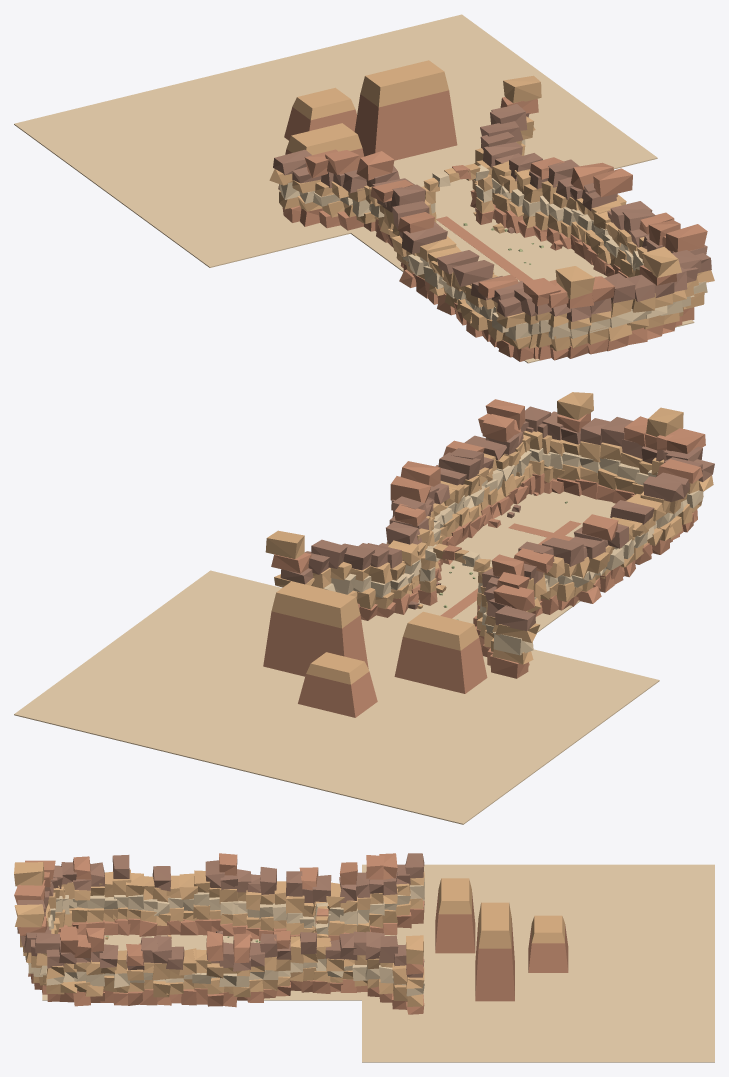
Rendered from lobby_canyon.glb.
3 renders of one model, top to bottom at view 1: azimuth 30°, elevation 25°; view 2: azimuth 150°, elevation 25°; view 3: azimuth 270°, elevation 25°, orthographic. The views are drawn at different scales.
Parts seen in each view (by area): view 1: LobbyCanyon; view 2: LobbyCanyon; view 3: LobbyCanyon.
Boxes of the visible parts, x1,y1,x2,y2 form: LobbyCanyon: (14, 14, 714, 363); LobbyCanyon: (14, 392, 714, 824); LobbyCanyon: (14, 853, 714, 1062).
Size of what is drawn, in the model's own units: 140 by 25.82 by 210.
